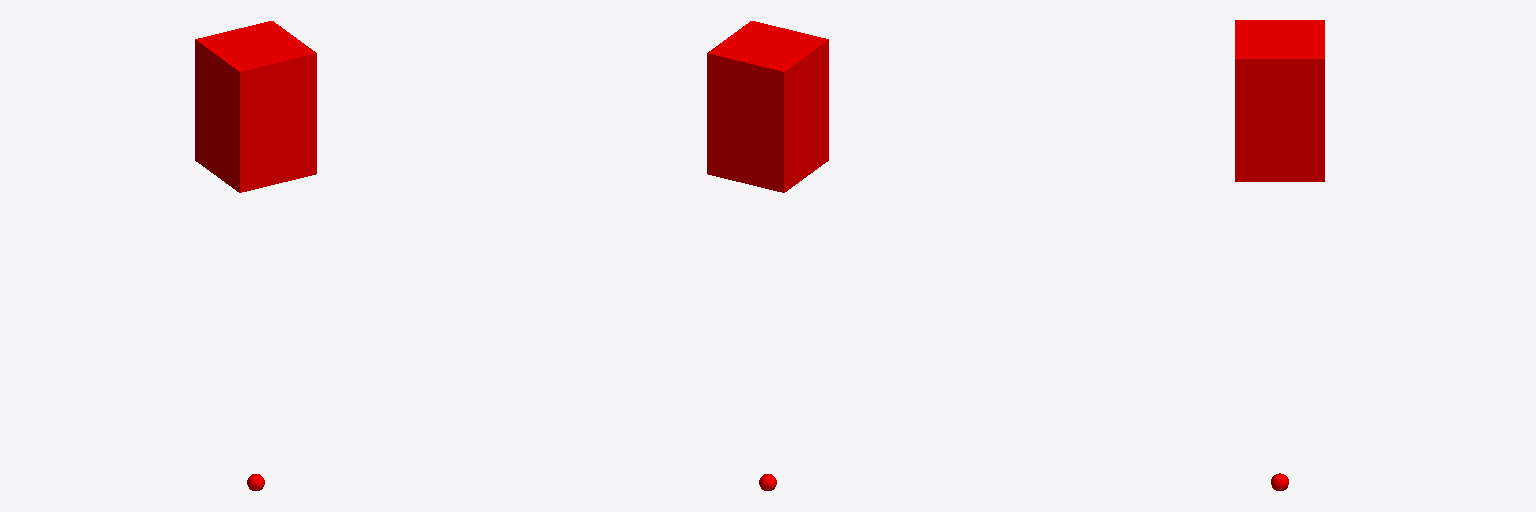
robot.urdf — monoped:
<robot name="monoped">
    <gazebo>
        <plugin name="gazebo_ros_control" filename="libgazebo_ros_control.so">
            <robotNamespace>/monoped</robotNamespace>
        </plugin>
    </gazebo>

    <link name="base">
        <inertial>
            <origin xyz="0 0 0" rpy="0 0 0"/>
            <mass value="0.18" />
            <inertia ixx="0.0002835" ixy="0.0" ixz="0.0" iyy="0.0002835" iyz="0.0" izz="0.000324"/>
        </inertial>
        <collision>
            <origin xyz="0 0 0" rpy="0 0 0"/>
            <geometry>
                <box size="0.20 0.20 0.30"/>
            </geometry>
        </collision>
	    <visual>
	      <geometry>
	        <box size="0.20 0.20 0.30"/>
	      </geometry>
	      <material name="red">
	        <color rgba="1.0 0 0 1.0"/>
	      </material>
	    </visual>        
    </link>
    
    <gazebo reference="base">
        <kp>1000.0</kp>
        <kd>1000.0</kd>
        <mu1>0.5</mu1>
        <mu2>0.5</mu2>
        <material>Gazebo/Red</material>
    </gazebo>
    
    <link name="hipassembly">
        <inertial>
            <origin xyz="0 0 0" rpy="0 0 0"/>
            <mass value="0.18" />
            <inertia ixx="0.0002835" ixy="0.0" ixz="0.0" iyy="0.0002835" iyz="0.0" izz="0.000324"/>
        </inertial>
        <collision>
            <origin rpy="0.0 0.0 0.0" xyz="0.0 0.0 0.0"/>
	      <geometry>
	        <mesh filename="package://legged_robot_description/meshes/leg/hipassembly.dae" scale="1 1 1"/>
	      </geometry>
        </collision>
	    <visual>
	      <origin rpy="0.0 0.0 0.0" xyz="0.0 0.0 0.0"/>
	      <geometry>
	        <mesh filename="package://legged_robot_description/meshes/leg/hipassembly.dae" scale="1 1 1"/>
	      </geometry>
	      <material name="white"/>
	    </visual>        
    </link>

    <gazebo reference="hipassembly">
        <kp>1000.0</kp>
        <kd>1000.0</kd>
        <mu1>0.5</mu1>
        <mu2>0.5</mu2>
        <material>Gazebo/Blue</material>
    </gazebo>


    <link name="upperleg">
        <inertial>
            <origin xyz="0 0 0" rpy="0 0 0"/>
            <mass value="0.18" />
            <inertia ixx="0.0002835" ixy="0.0" ixz="0.0" iyy="0.0002835" iyz="0.0" izz="0.000324"/>
        </inertial>
        <collision>
            <origin rpy="0.0 0.0 0.0" xyz="0.0 0.0 0.0"/>
	      <geometry>
	        <mesh filename="package://legged_robot_description/meshes/leg/upperleg.dae" scale="1 1 1"/>
	      </geometry>
        </collision>
	    <visual>
	      <origin rpy="0.0 0.0 0.0" xyz="0.0 0.0 0.0"/>
	      <geometry>
	        <mesh filename="package://legged_robot_description/meshes/leg/upperleg.dae" scale="1 1 1"/>
	      </geometry>
	      <material name="blue"/>
	    </visual>
    </link>

    <gazebo reference="upperleg">
        <kp>1000.0</kp>
        <kd>1000.0</kd>
        <mu1>0.5</mu1>
        <mu2>0.5</mu2>
        <material>Gazebo/Blue</material>
    </gazebo>


    <link name="lowerleg">
        <inertial>
            <origin xyz="0 0 0" rpy="0 0 0"/>
            <mass value="0.18" />
            <inertia ixx="0.0002835" ixy="0.0" ixz="0.0" iyy="0.0002835" iyz="0.0" izz="0.000324"/>
        </inertial>
        <collision>
            <origin rpy="0.0 0.0 0.0" xyz="0.0 0.0 0.0"/>
	      <geometry>
	        <mesh filename="package://legged_robot_description/meshes/leg/lowerleg.dae" scale="1 1 1"/>
	      </geometry>
        </collision>
	    <visual>
	      <geometry>
	        <mesh filename="package://legged_robot_description/meshes/leg/lowerleg.dae" scale="1 1 1"/>
	      </geometry>
	      <material name="blue"/>
	    </visual>        
    </link>

    <gazebo reference="lowerleg">
        <kp>1000.0</kp>
        <kd>1000.0</kd>
        <mu1>0.5</mu1>
        <mu2>0.5</mu2>
        <material>Gazebo/Blue</material>
    </gazebo>
    
    <link name="lowerleg_contactsensor_link">
 	    <inertial >
            <origin xyz="0 0 0" rpy="0 0 0"/>
            <mass value="0.01" />
            <inertia ixx="1.28e-06" ixy="0.0" ixz="0.0" iyy="1.28e-06" iyz="0.0" izz="1.28e-06"/>
        </inertial>
        <collision>
            <origin xyz="0 0 0" rpy="0 0 0"/>
            <geometry>
                <sphere radius="0.020"/>
            </geometry>
        </collision>
        <visual>
            <origin rpy="0.0 0 0" xyz="0 0 0"/>
            <geometry>
                <sphere radius="0.020"/>
            </geometry>
            <material name="red">
	            <color rgba="1.0 0 0 1.0"/>
	        </material>
        </visual>
	</link>

    <gazebo reference="lowerleg_contactsensor_link">
        <kp>1000.0</kp>
        <kd>1000.0</kd>
        <mu1>10.0</mu1>
        <mu2>10.0</mu2>
        <material>Gazebo/Red</material>
    </gazebo>

    <joint name="lowerleg_contactsensor_link_joint" type="fixed">
        <parent link="lowerleg"/>
        <child link="lowerleg_contactsensor_link"/>
        <origin xyz="0.35 0 0" rpy="0 0 0"/>
    </joint>
    
   
    <joint name="haa_joint" type="revolute">
        <origin xyz="0.0 0.0 -0.15000" rpy="2.0344439357957036 1.5707962290814481 -1.1071487177940917"/>
        <parent link="base"/>
        <child  link="hipassembly"/>
        <limit effort="200" lower="-1.6" upper="1.6" velocity="10.0"/>
        <axis xyz="0 0 1"/>
    </joint>
    <joint name="hfe_joint" type="revolute">
        <origin xyz="0.08000 0.00000 0.00000" rpy="1.5707963705062866 -0.0 0.0"/>
        <parent link="hipassembly"/>
        <child  link="upperleg"/>
        <limit effort="200" lower="-1.6" upper="1.6" velocity="10.0"/>
        <axis xyz="0 0 1"/>
    </joint>
    <joint name="kfe_joint" type="revolute">
        <origin xyz="0.35000 0.00000 0.00000" rpy="0.0 0.0 0.0"/>
        <parent link="upperleg"/>
        <child  link="lowerleg"/>
        <limit effort="200" lower="-1.6" upper="1.6" velocity="10.0"/>
        <axis xyz="0 0 1"/>
    </joint>

    <transmission name="haa_joint_trans">
      <type>transmission_interface/SimpleTransmission</type>
      <joint name="haa_joint">
        <hardwareInterface>hardware_interface/EffortJointInterface</hardwareInterface>
      </joint>
      <actuator name="haa_jointMotor">
        <hardwareInterface>hardware_interface/EffortJointInterface</hardwareInterface>
        <mechanicalReduction>1</mechanicalReduction>
      </actuator>
    </transmission>

    <transmission name="hfe_joint_trans">
      <type>transmission_interface/SimpleTransmission</type>
      <joint name="hfe_joint">
        <hardwareInterface>hardware_interface/EffortJointInterface</hardwareInterface>
      </joint>
      <actuator name="hfe_jointMotor">
        <hardwareInterface>hardware_interface/EffortJointInterface</hardwareInterface>
        <mechanicalReduction>1</mechanicalReduction>
      </actuator>
    </transmission>

    <transmission name="kfe_joint_trans">
      <type>transmission_interface/SimpleTransmission</type>
      <joint name="kfe_joint">
        <hardwareInterface>hardware_interface/EffortJointInterface</hardwareInterface>
      </joint>
      <actuator name="kfe_jointMotor">
        <hardwareInterface>hardware_interface/EffortJointInterface</hardwareInterface>
        <mechanicalReduction>1</mechanicalReduction>
      </actuator>
    </transmission>
</robot>

--- What the picture shows (computed from the rendered views, not written in the file) ---
Views: 3 orthographic renders of the robot side by side, from view 1: azimuth 30°, elevation 25°; view 2: azimuth 150°, elevation 25°; view 3: azimuth 270°, elevation 25°.
Model monoped with 5 links and 4 joints (3 revolute, 1 fixed), rooted at base, posed all joints at 0.
Links seen in each view (by area): view 1: base; view 2: base; view 3: base.
Boxes of the visible links, x1,y1,x2,y2 form: base: (195, 21, 316, 192); base: (707, 21, 828, 192); base: (1235, 20, 1324, 181).
Bounding box of the posed robot: 0.2 × 0.2 × 1.1 m (x, y, z).
Meshes: 3 distinct files referenced, 0 mesh visuals loaded (none loaded); not drawn: 3 (reference not matched to a file when rendering).